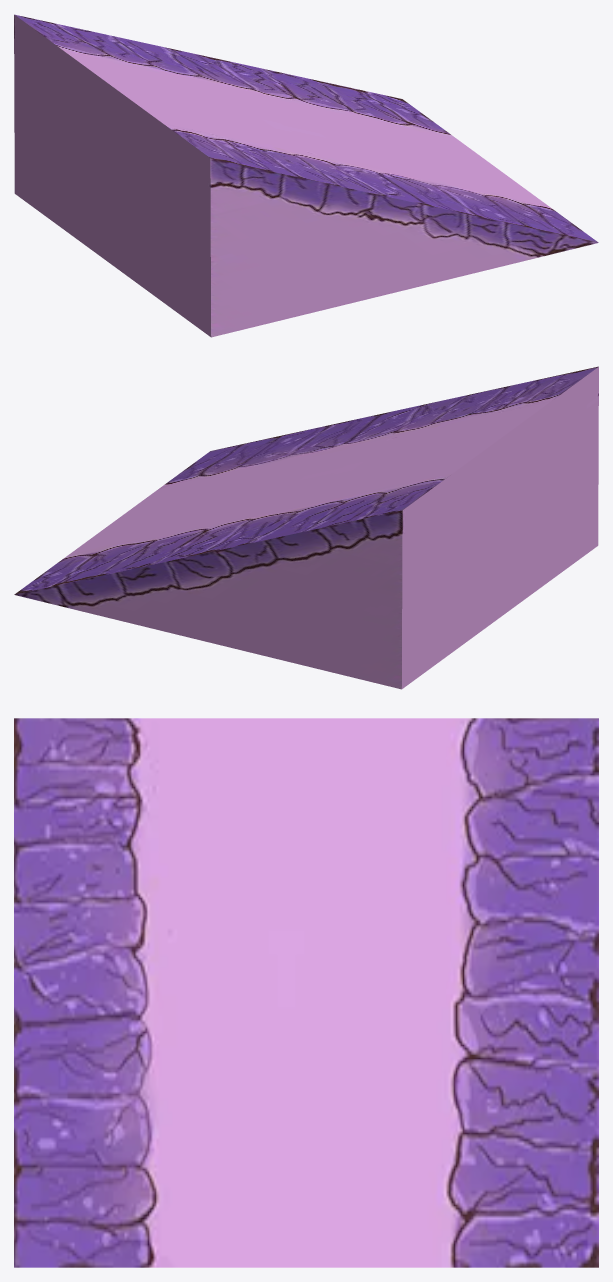
File: pm-building-vapor-ramp-01.glb
The picture shows the model from 3 angles, top to bottom: view 1: azimuth 30°, elevation 25°; view 2: azimuth 150°, elevation 25°; view 3: azimuth 270°, elevation 25°; orthographic projection. The views are drawn at different scales.
Visible parts, largest first — view 1: Building_Vapor_Ramp_01; view 2: Building_Vapor_Ramp_01; view 3: Building_Vapor_Ramp_01.
Part boxes in pixels (left/top/right/bottom): Building_Vapor_Ramp_01: left=14, top=14, right=598, bottom=337; Building_Vapor_Ramp_01: left=14, top=366, right=598, bottom=689; Building_Vapor_Ramp_01: left=14, top=718, right=598, bottom=1267.
Size of the model in its own units: 5.49 by 2.42 by 4.8.
1 material, 1 textured.
